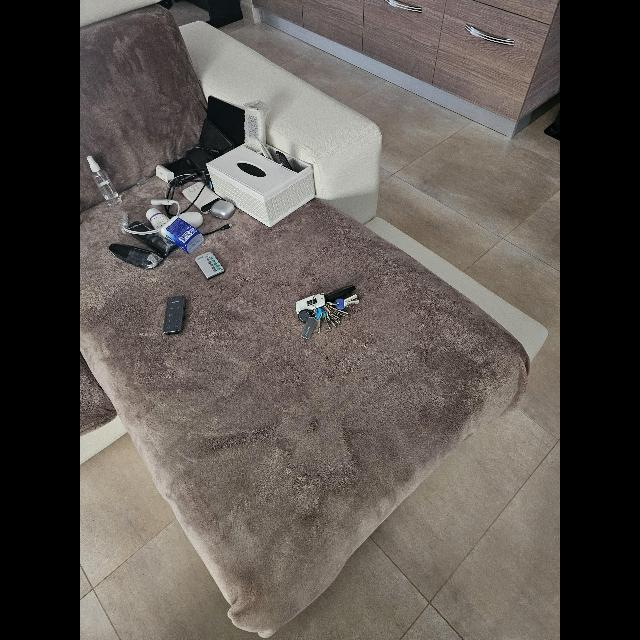Keys: (298, 285, 360, 339)
